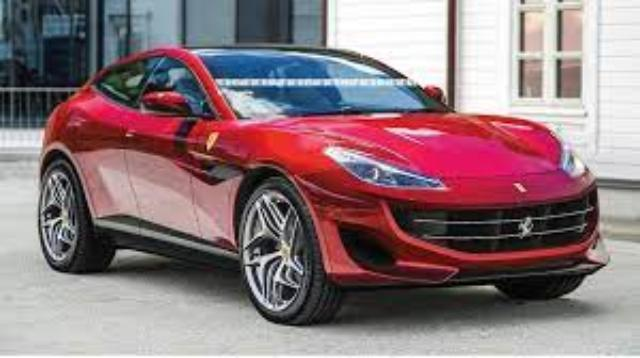ferrari: (38, 42, 610, 326)
